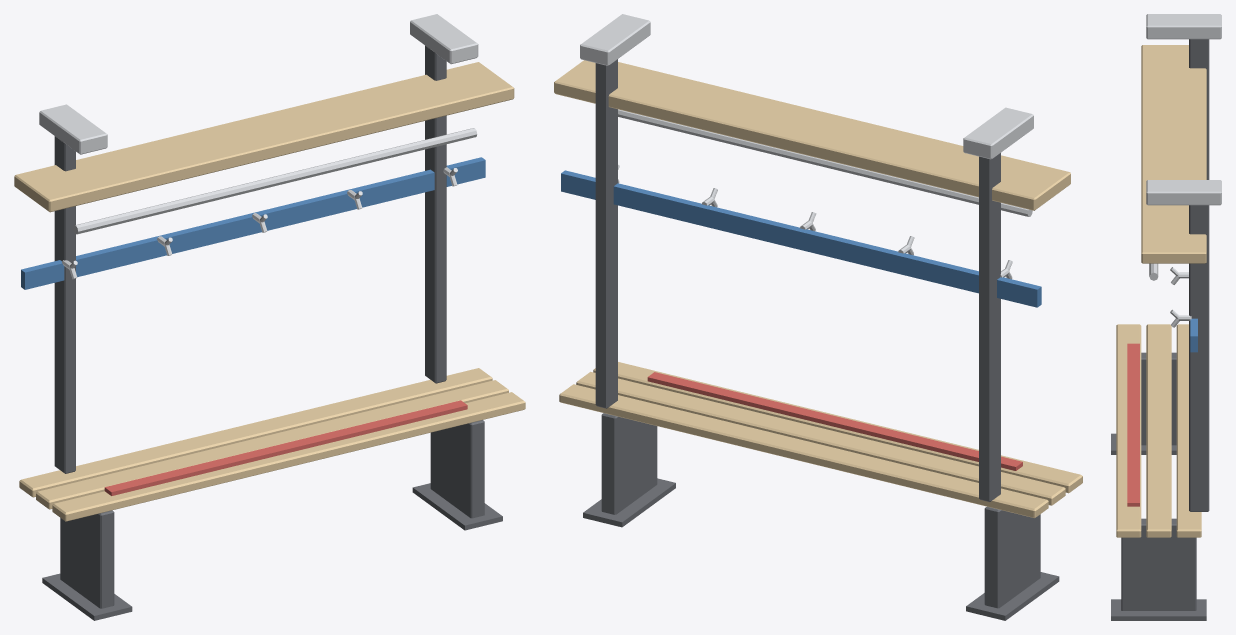
Rendered from community-sports-hall-and-changing-rooms-changing-benc-af5dc448__35103.glb.
3 renders of one model, left to right at view 1: azimuth 30°, elevation 25°; view 2: azimuth 150°, elevation 25°; view 3: azimuth 270°, elevation 25°, orthographic. The views are drawn at different scales.
Visible parts, largest first — view 1: changing-bench-run; view 2: changing-bench-run; view 3: changing-bench-run.
Part boxes in pixels (x1=…): changing-bench-run: x1=14, y1=14, x2=525, y2=620; changing-bench-run: x1=554, y1=14, x2=1082, y2=620; changing-bench-run: x1=1111, y1=14, x2=1221, y2=620.
Size of the model in its own units: 1.96 by 1.87 by 0.44.
